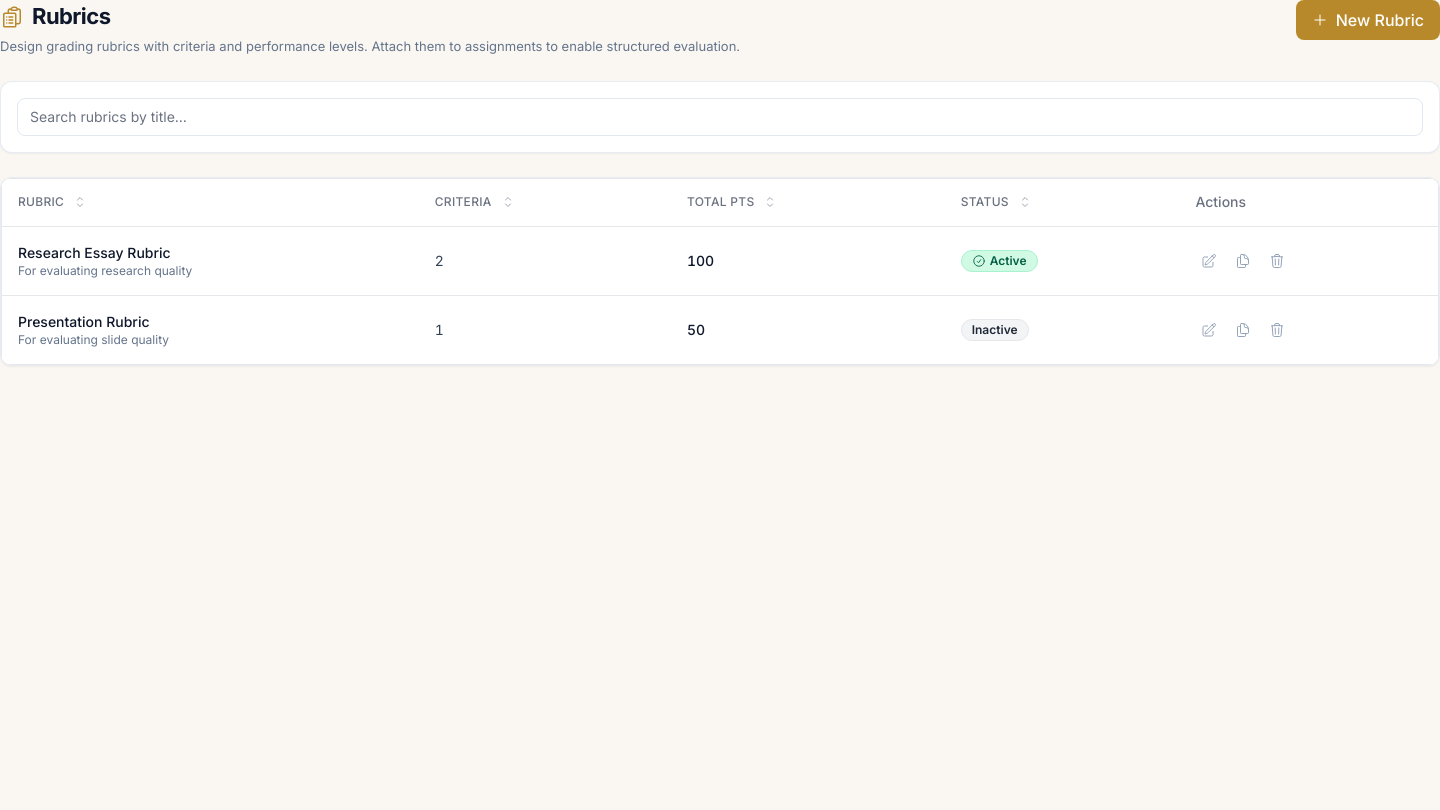
Test: RubricPage › closes modal when close button is clicked
The width and height of the screenshot is (1440, 810).
Click the button "New Rubric".
click(1368, 20)  # box left=1296, top=0, right=1439, bottom=40
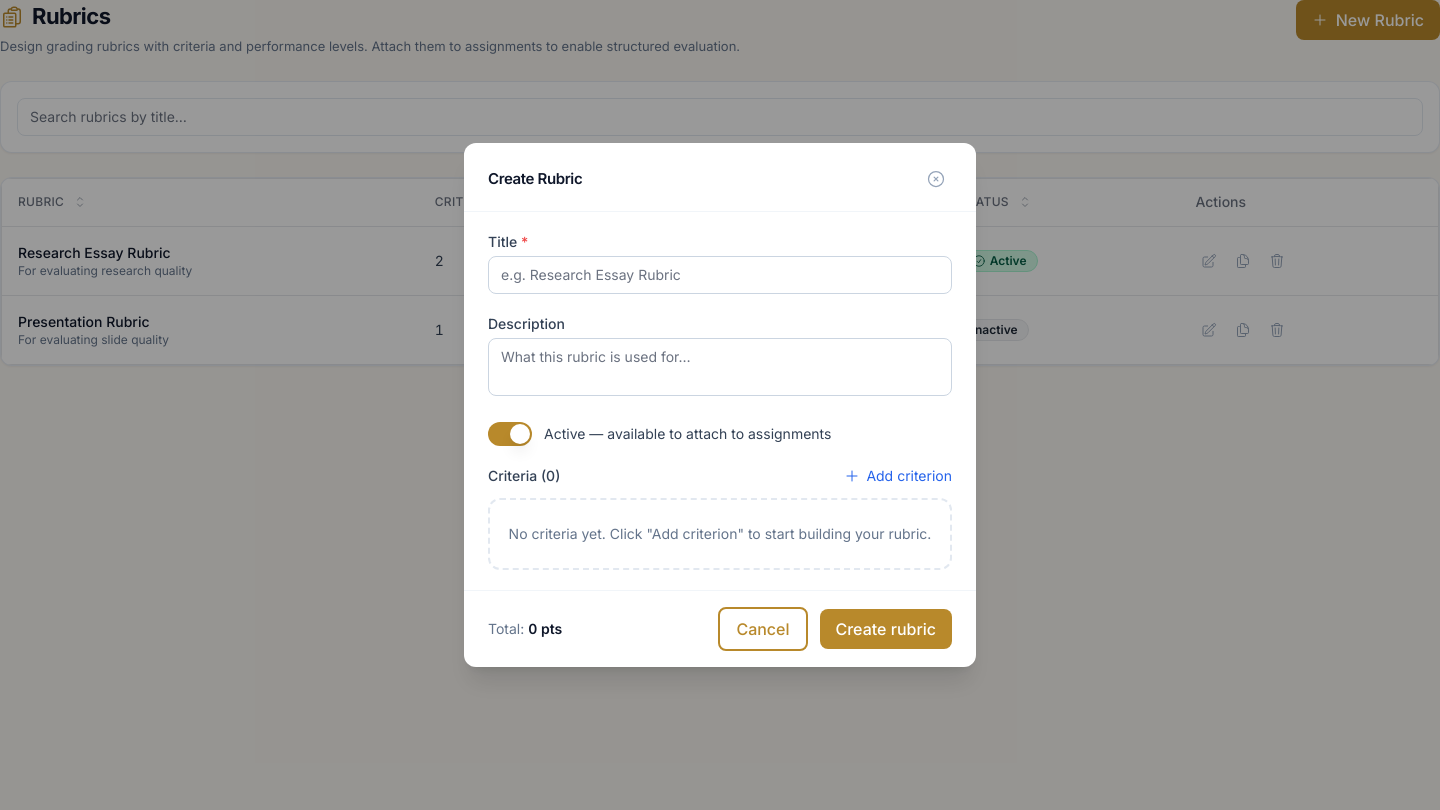
Check: the heading "Create Rubric" is shown, box left=488, top=168, right=582, bottom=190
Click the button named "close".
click(936, 179)  # box left=920, top=163, right=952, bottom=195
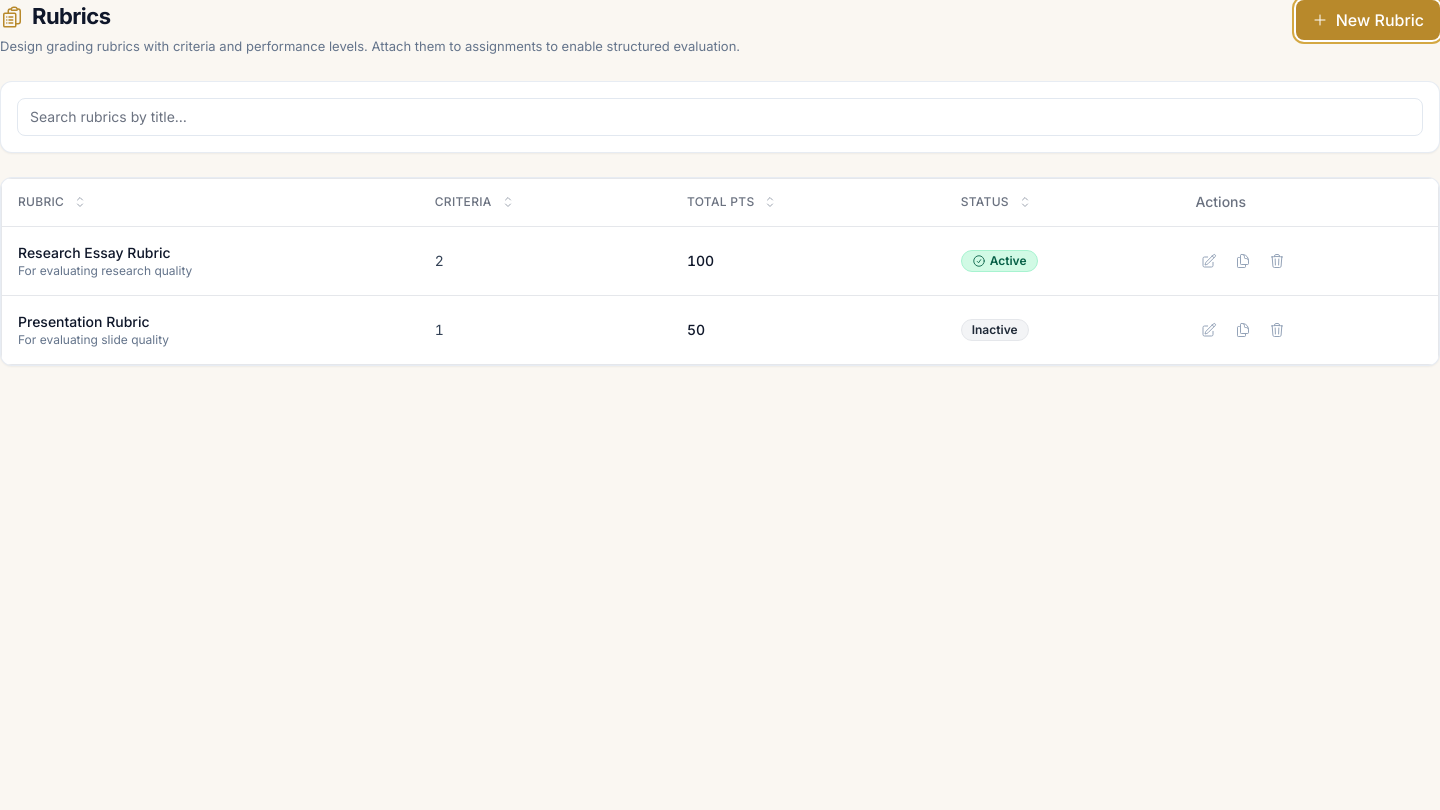
Check: the heading "Create Rubric" is gone
